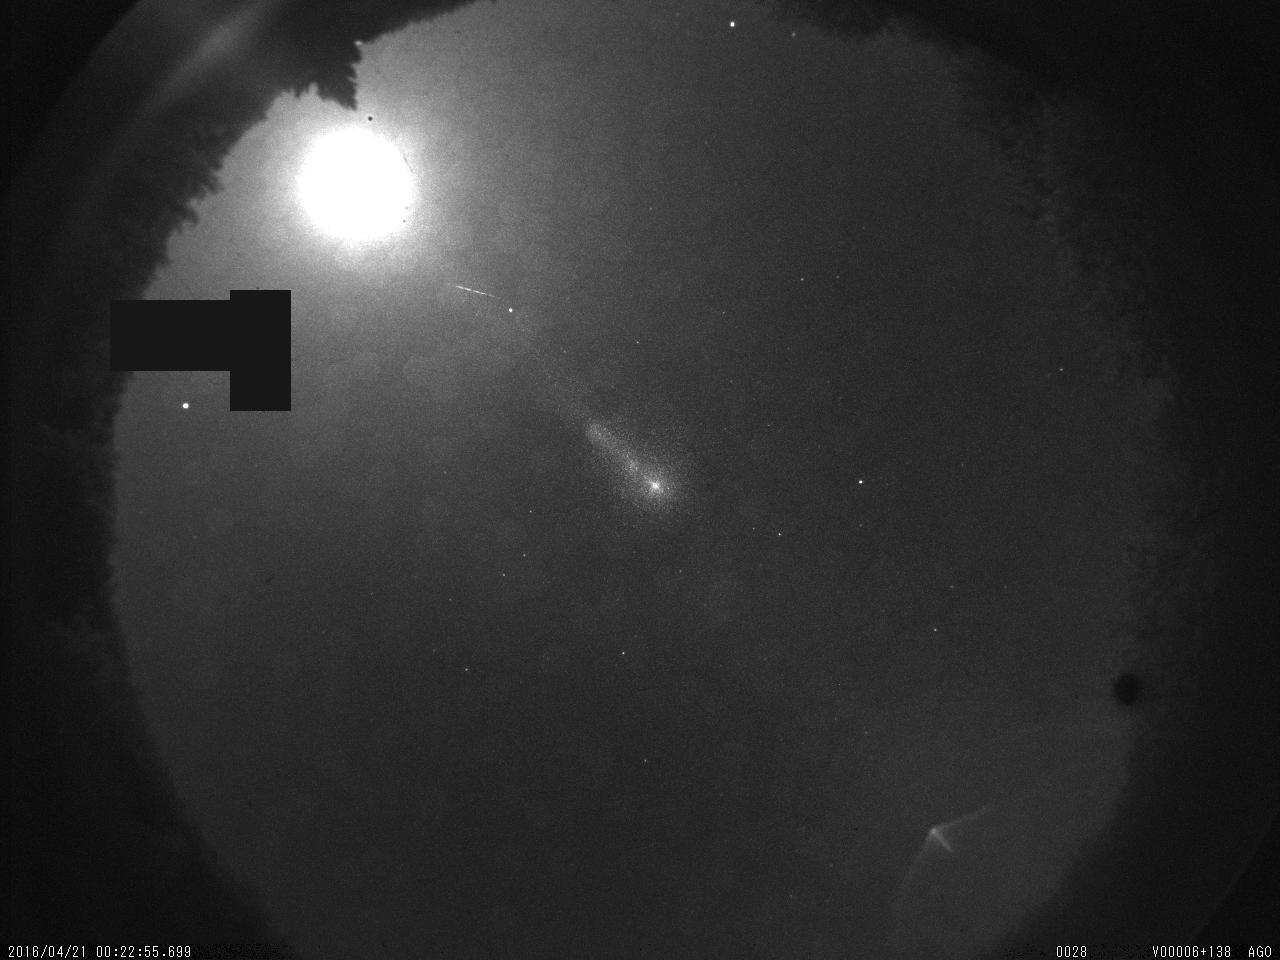meteor: (442, 278, 523, 311)
